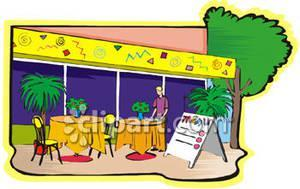chair: (30, 114, 64, 168), (87, 112, 117, 159)
diningtable: (48, 116, 104, 164), (116, 118, 165, 160)
person: (150, 85, 169, 120)
pottedplant: (18, 73, 65, 155)
